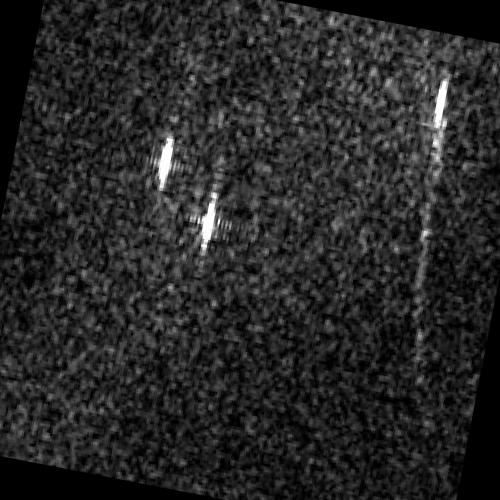ship: (157, 135, 175, 194), (200, 193, 218, 251), (432, 76, 449, 131)
